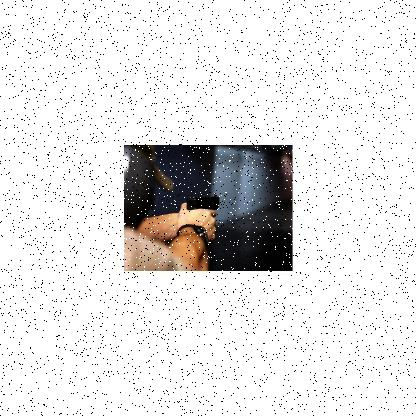gun: (184, 195, 220, 241)
